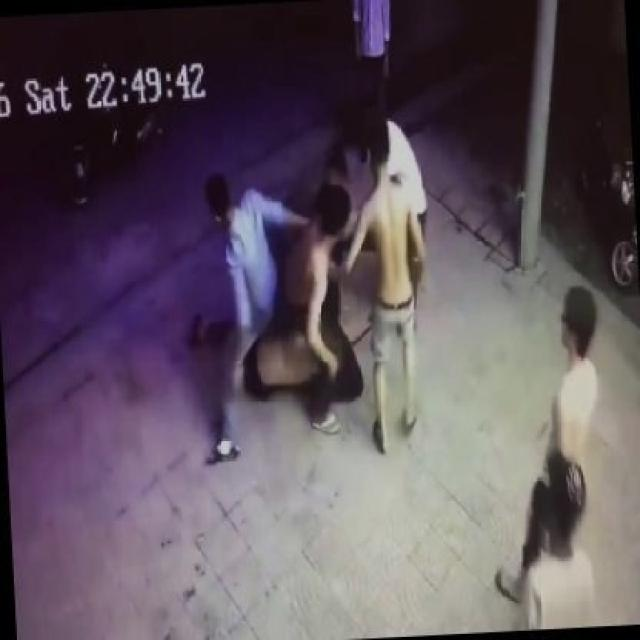fight: (178, 148, 390, 477)
non-fight: (465, 271, 637, 634)
